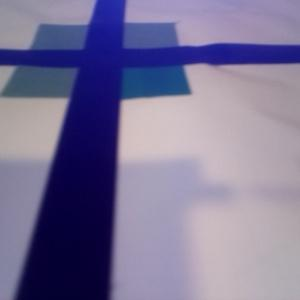bottom_left: (3, 51, 119, 93)
bottom_right: (80, 50, 191, 99)
top_left: (31, 25, 122, 67)
top_right: (88, 23, 178, 65)
